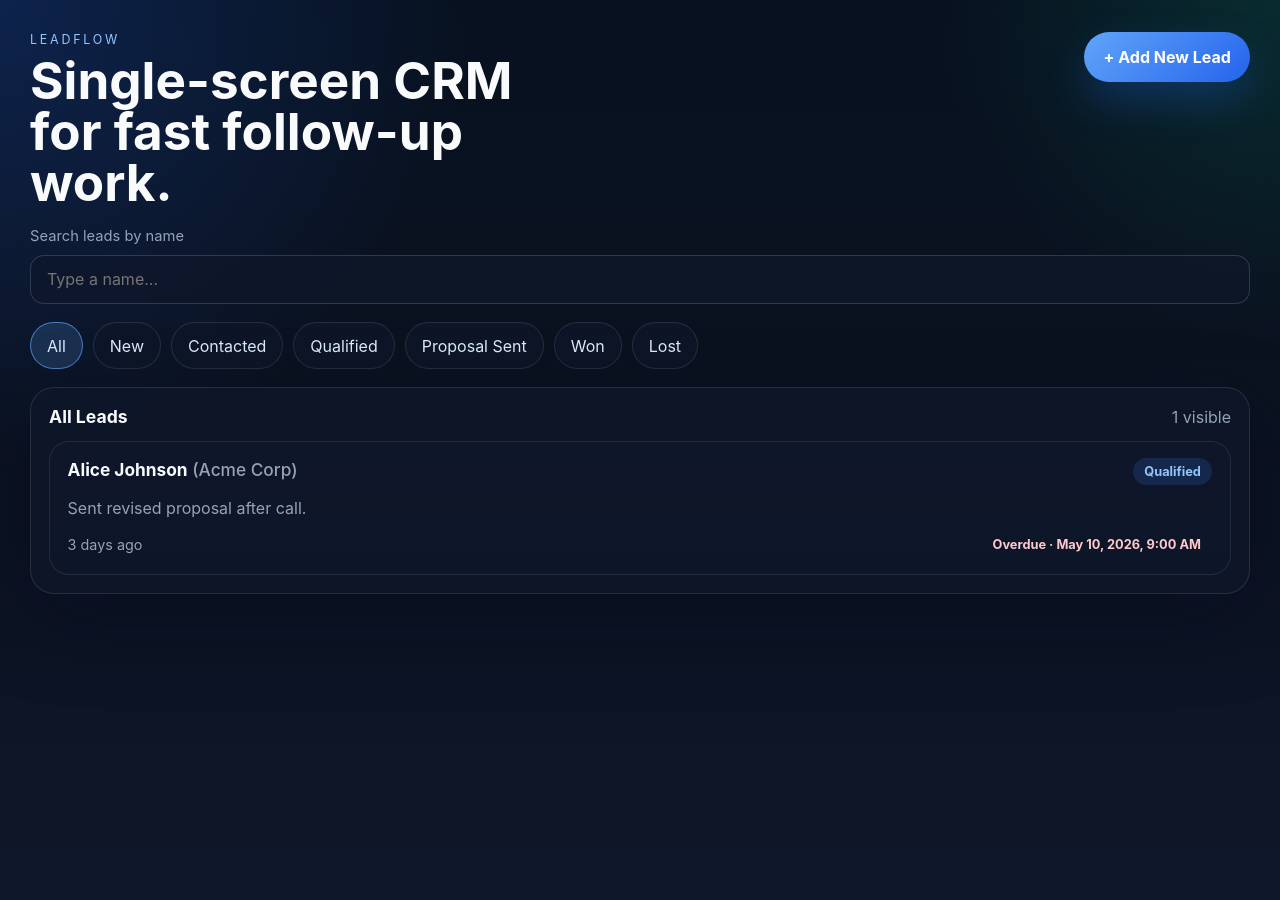
it: App smoke test › renders the lead list and opens a timeline modal
Check: the text "LeadFlow" is shown, box left=30, top=32, right=120, bottom=47
Check: the text "Alice Johnson" is shown, box left=68, top=459, right=188, bottom=480
Click the button "Alice Johnson": x=640, y=508 left=49, top=441, right=1231, bottom=575
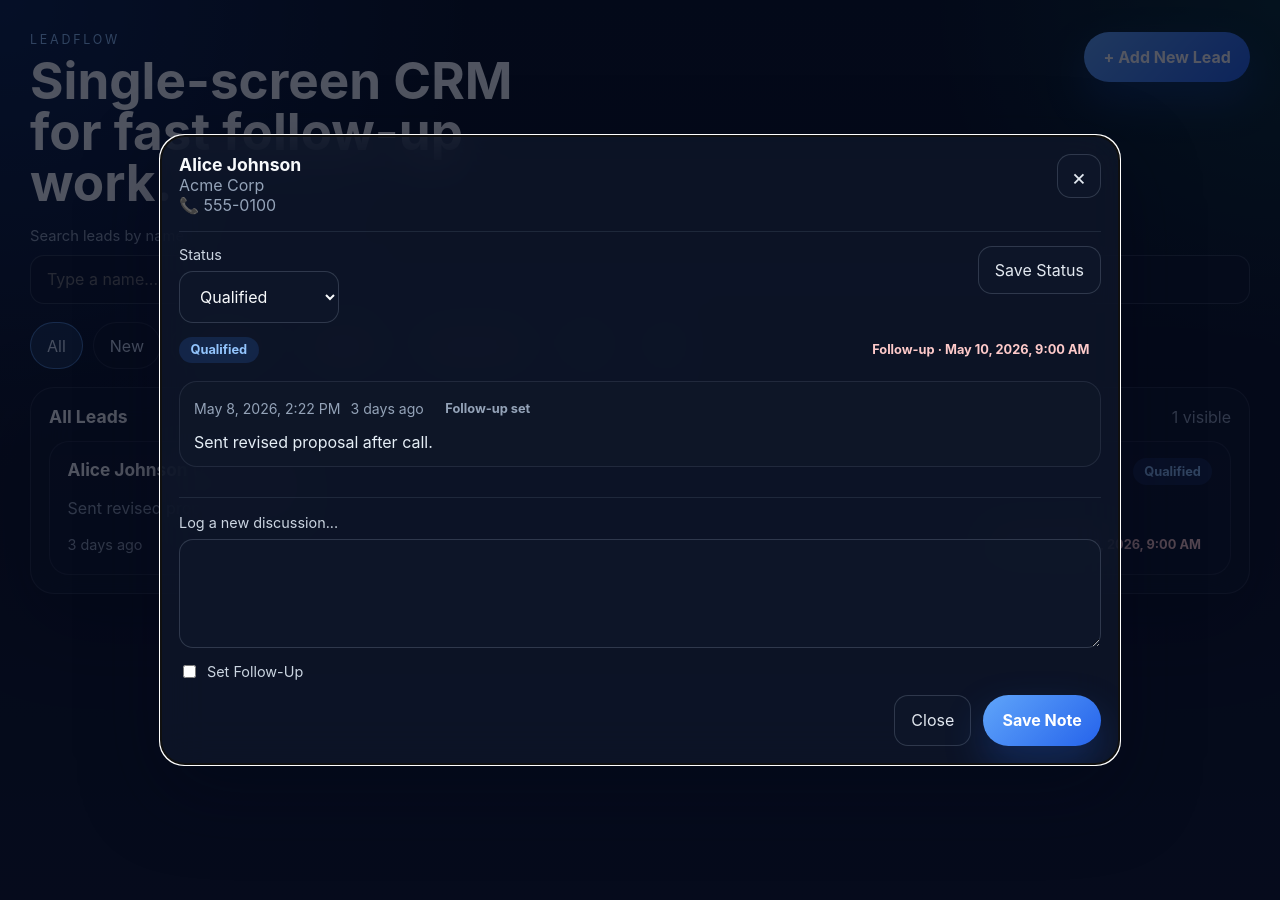
Check: the heading "Alice Johnson" is shown, box left=179, top=154, right=301, bottom=175
Check: the text "Sent revised proposal after call." is shown, box left=194, top=432, right=433, bottom=452
